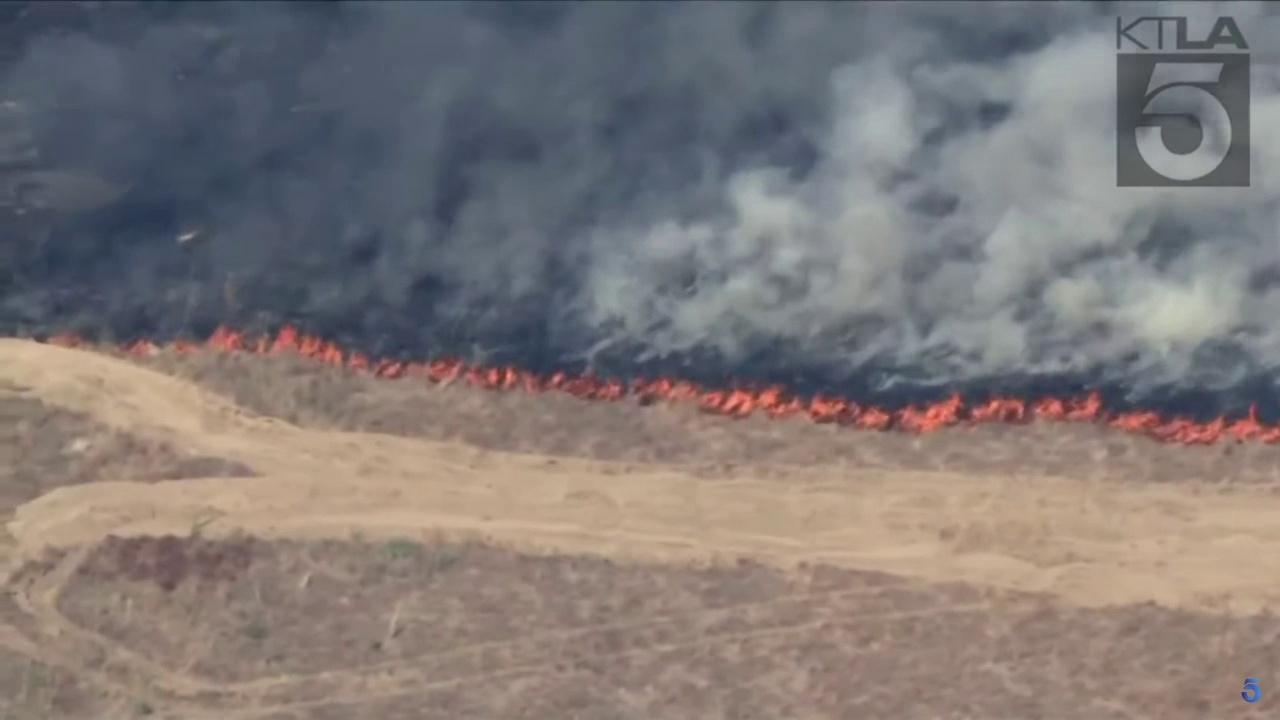fire: (35, 322, 1280, 448)
smoke: (0, 0, 1280, 415)
